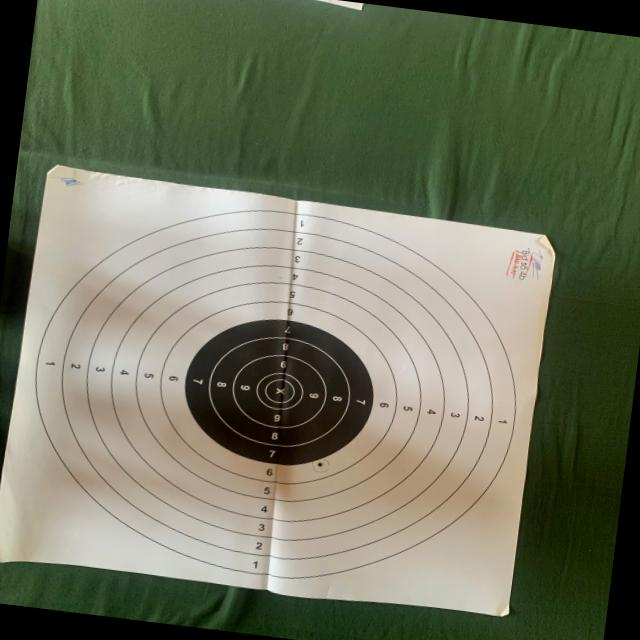bullet: (317, 462, 322, 466)
target: (0, 165, 554, 615)
